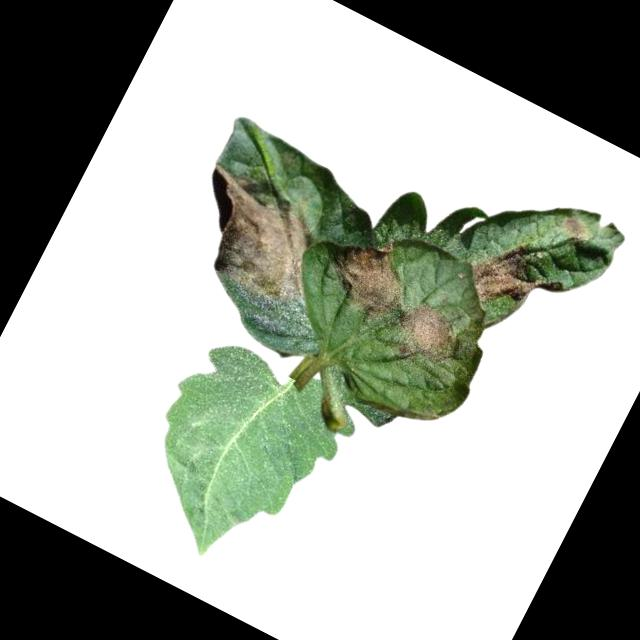Late_blight: (170, 161, 345, 318), (310, 218, 429, 336), (456, 226, 562, 327), (382, 293, 471, 381), (556, 212, 594, 245)
healthy: (111, 324, 367, 593)
